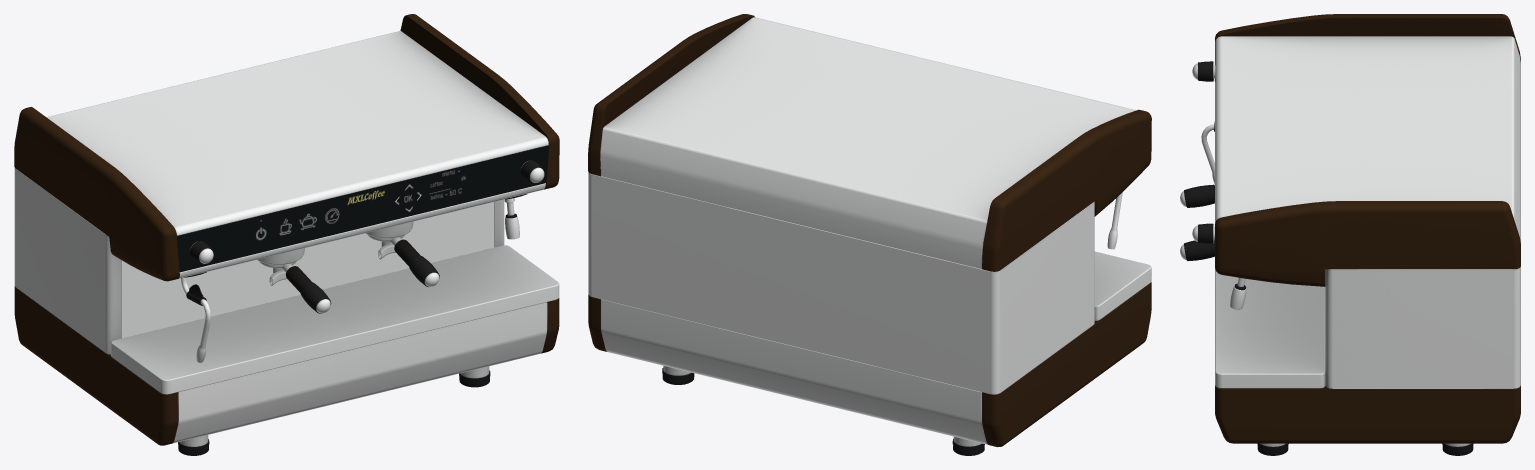
The model's file is coffee_machine.fbx.
3 renders of one model, left to right at view 1: azimuth 30°, elevation 25°; view 2: azimuth 150°, elevation 25°; view 3: azimuth 270°, elevation 25°, orthographic. The views are drawn at different scales.
Parts seen in each view (by area): view 1: coffe_machine_body, lever_1, lever_2, steam_lever; view 2: coffe_machine_body; view 3: coffe_machine_body, lever_2, lever_1, crane_2, crane_1, hot_water_outlet.
Boxes of the visible parts, x1,y1,x2,y2 form: coffe_machine_body: [14, 14, 559, 455]; lever_1: [365, 221, 439, 287]; lever_2: [256, 248, 331, 313]; steam_lever: [181, 277, 210, 362]; coffe_machine_body: [588, 14, 1151, 455]; coffe_machine_body: [1215, 14, 1520, 455]; lever_2: [1180, 184, 1214, 207]; lever_1: [1180, 240, 1214, 260]; crane_2: [1192, 61, 1215, 81]; crane_1: [1192, 223, 1214, 243]; hot_water_outlet: [1230, 277, 1246, 309].
Size of the model in its own units: 77 by 50 by 56.82.
